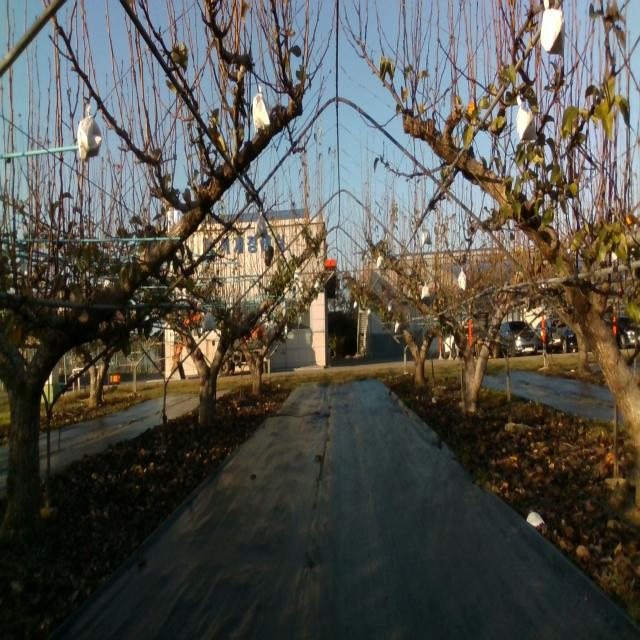pearbags: (537, 0, 566, 60), (76, 106, 104, 164), (516, 94, 540, 142), (252, 85, 271, 133), (201, 312, 216, 332), (255, 216, 268, 239)
